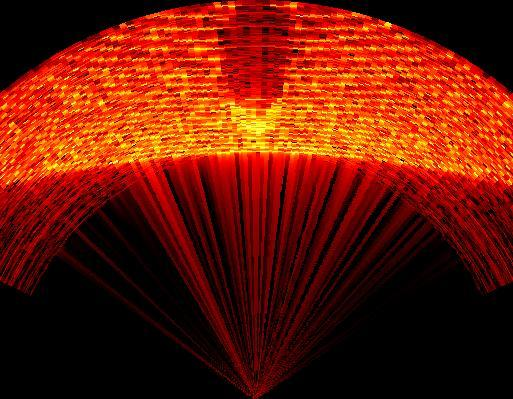box_crate: (217, 1, 292, 100)
